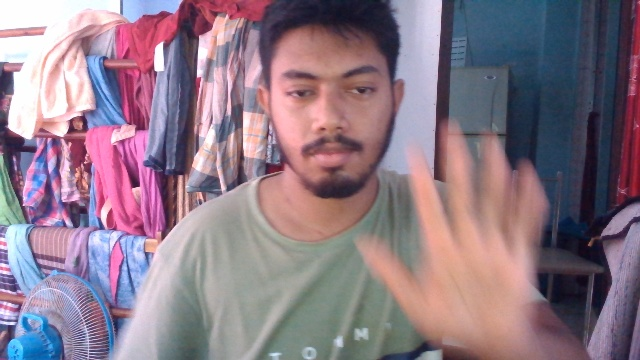hello: (353, 124, 552, 340)
